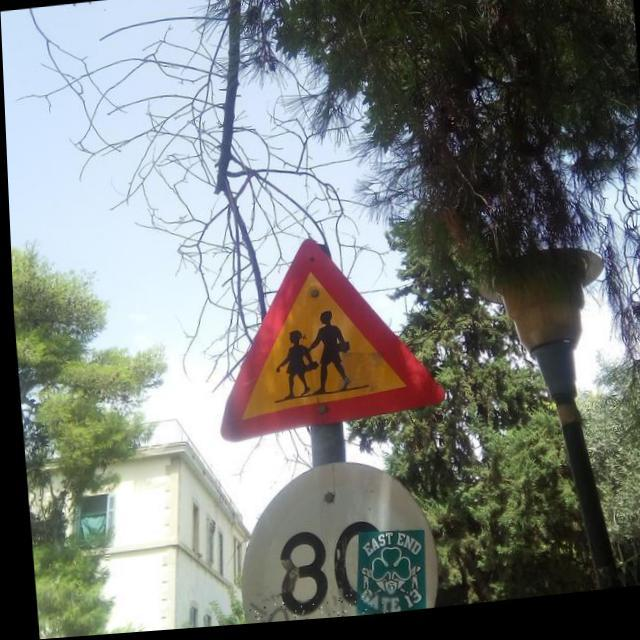-: (238, 594, 392, 628)
